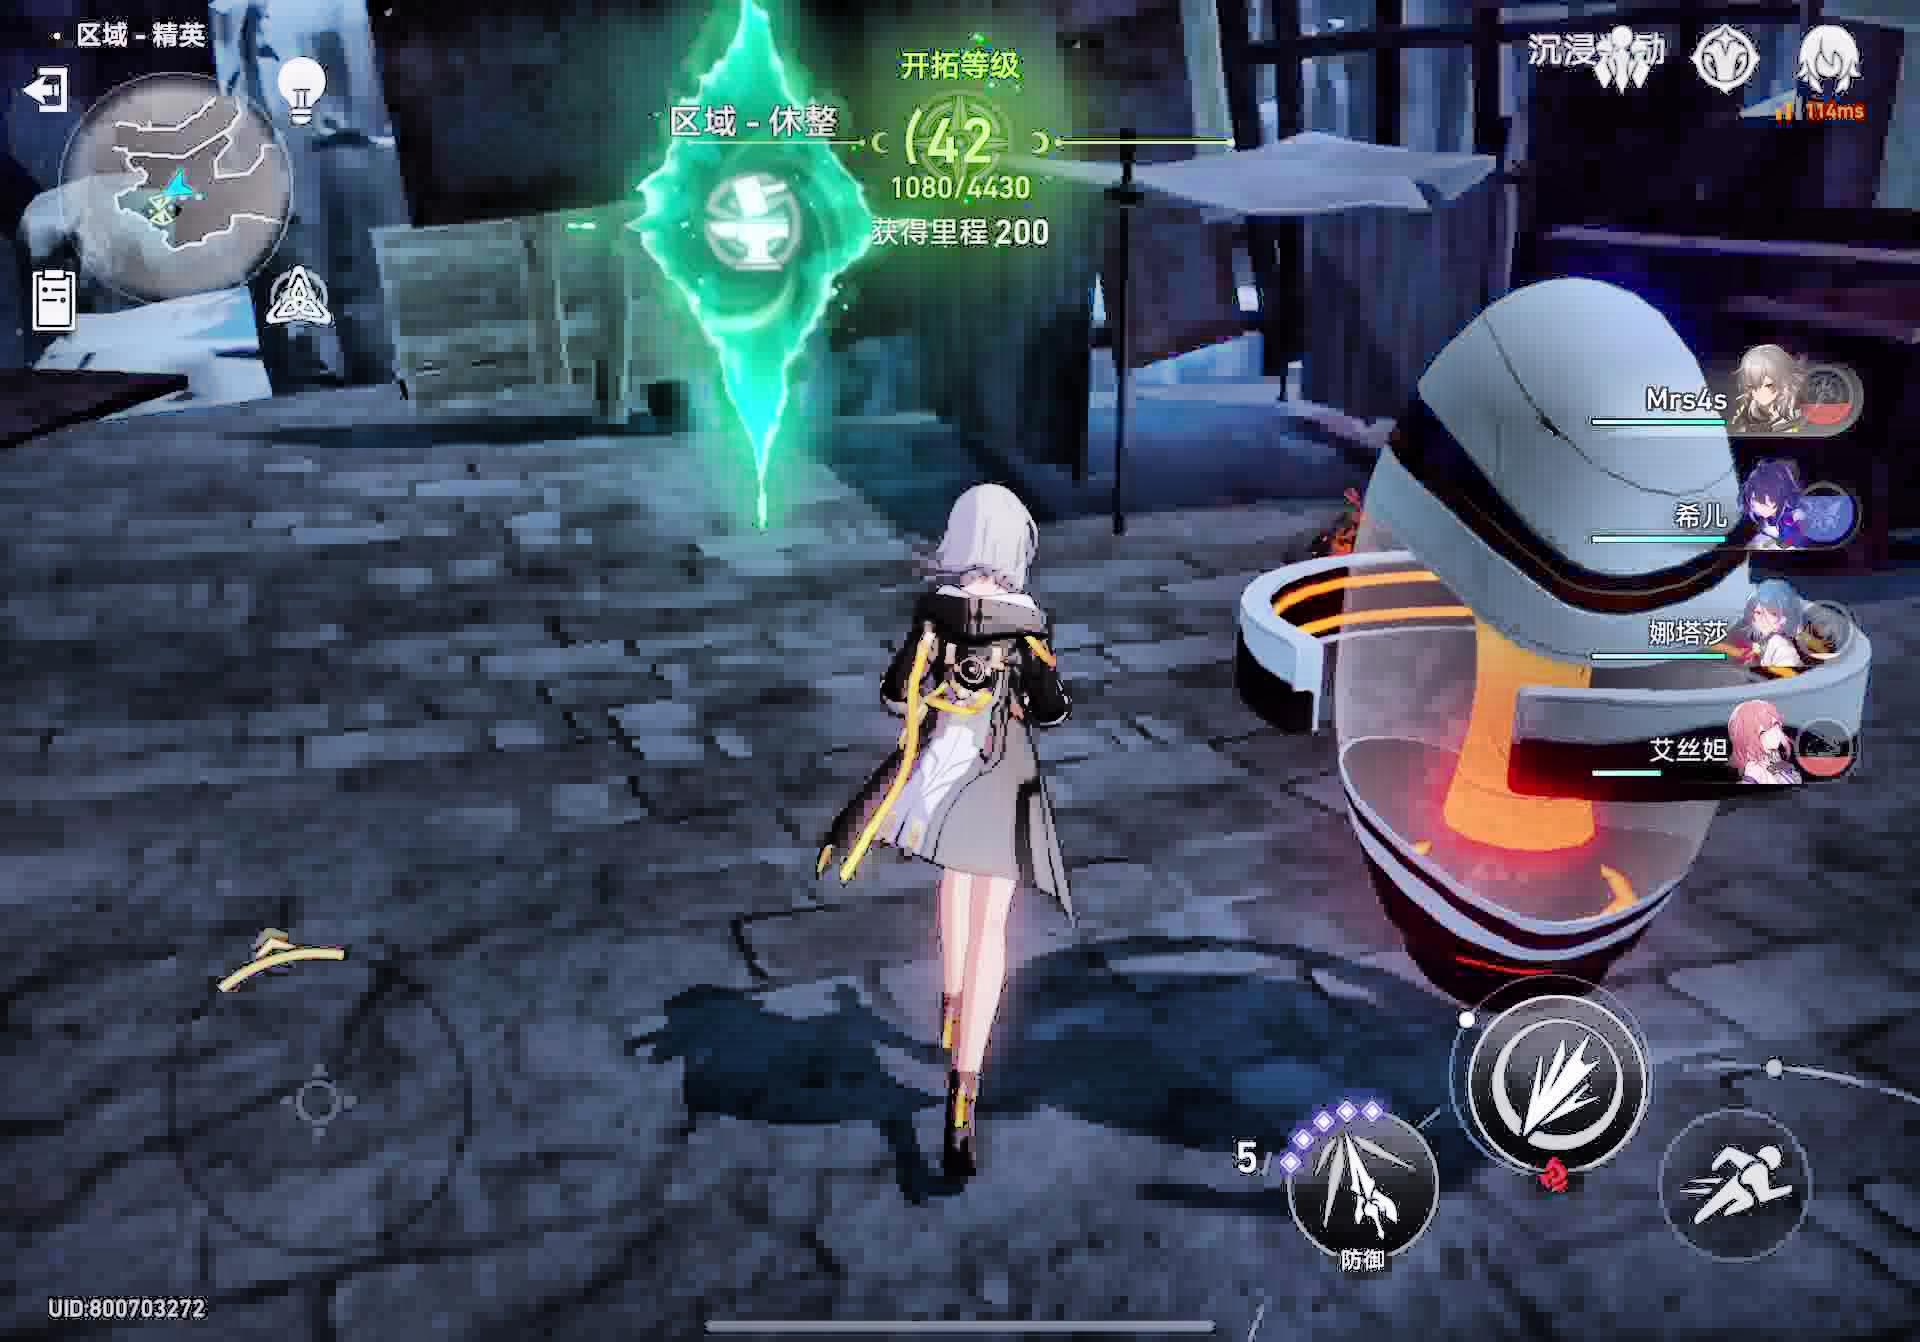SafeDoor: (610, 10, 903, 524)
Self: (836, 490, 1067, 1176)
